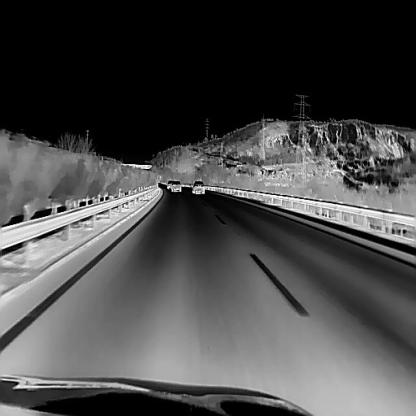car: (192, 180, 204, 194), (170, 179, 181, 191), (166, 178, 173, 188)
